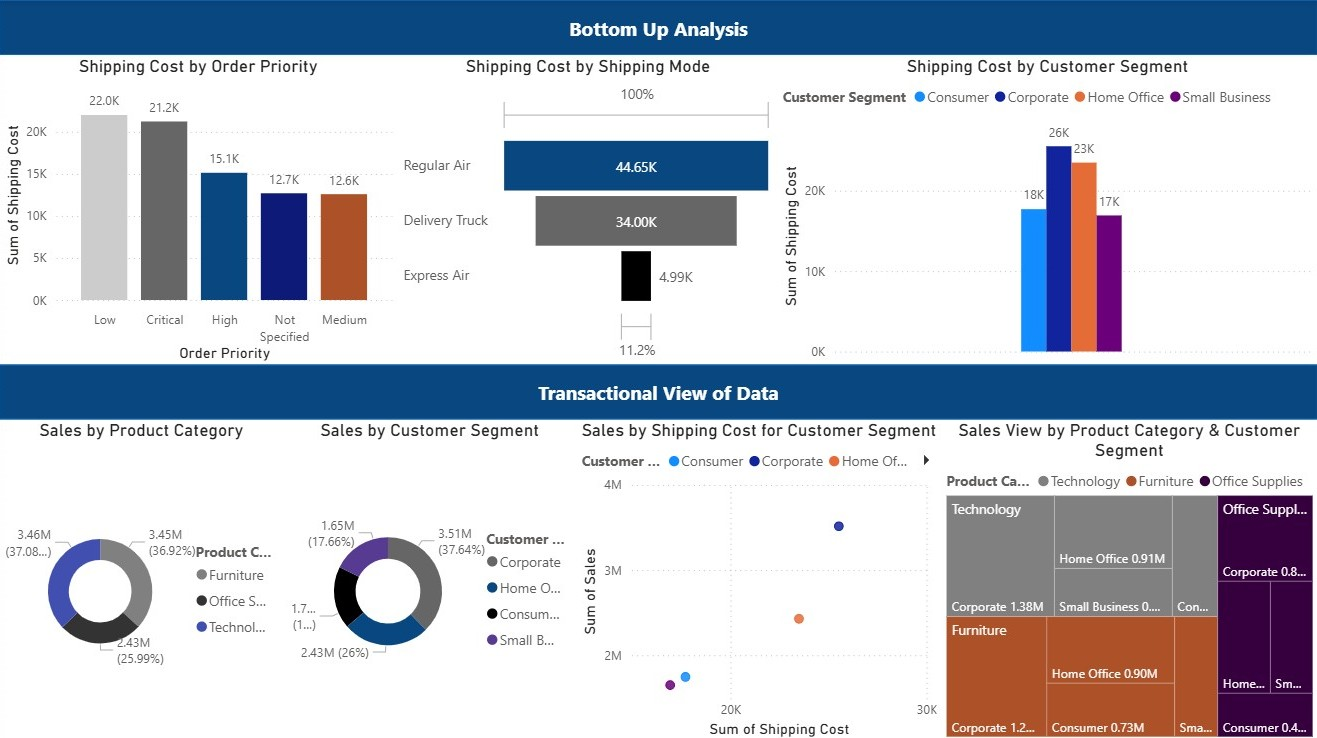

Layout of this report page (visuals, bound fields, positions):
{"tool":"powerbi","page":{"name":"Bottom Up Analysis","canvas":[1280,720],"ordinal":1},"visuals":[{"type":"shape","box":[0,0,1279.8,53.4],"z":0},{"type":"clusteredColumnChart","title":"Shipping Cost by Order Priority","fields":{"Category":["Orders.Order Priority"],"Y":["Sum(Orders.Shipping Cost)"]},"box":[0,53.4,386.7,300.9],"z":1},{"type":"funnel","title":"Shipping Cost by Shipping Mode","fields":{"Y":["Sum(Orders.Shipping Cost)"],"Category":["Orders.Ship Mode"]},"box":[386.7,53.4,368.9,300.9],"z":2},{"type":"clusteredColumnChart","title":"Shipping Cost by Customer Segment","fields":{"Y":["Sum(Orders.Shipping Cost)"],"Series":["Orders.Customer Segment"]},"box":[755.6,53.4,524.2,300.9],"z":3},{"type":"donutChart","title":"Sales by Product Category","fields":{"Y":["Sum(Orders.Sales)"],"Series":["Orders.Product Category"]},"box":[0,407.7,276.7,312.3],"z":4},{"type":"scatterChart","title":"Sales by Shipping Cost for Customer Segment","fields":{"X":["Sum(Orders.Shipping Cost)"],"Series":["Orders.Customer Segment"],"Y":["Sum(Orders.Sales)"]},"box":[559.8,407.7,354.3,312.3],"z":7},{"type":"treemap","title":"Sales View by Product Category & Customer Segment","fields":{"Group":["Orders.Product Category"],"Values":["Sum(Orders.Sales)"],"Details":["Orders.Customer Segment"]},"box":[914.2,407.7,365.7,312.3],"z":8},{"type":"donutChart","title":"Sales by Customer Segment","fields":{"Y":["Sum(Orders.Sales)"],"Category":["Orders.Customer Segment"]},"box":[276.7,407.7,283.1,312.3],"z":9},{"type":"shape","box":[0,354.3,1279.8,53.4],"z":10}]}

Visuals, with their boxes in screenshot pixels (x1, y1, x2, y2), scaled from the page's 1280x720 canvas onto the 1317x738 screenshot:
shape: [left=0, top=0, right=1316, bottom=55]
"Shipping Cost by Order Priority" clusteredColumnChart: [left=0, top=55, right=398, bottom=363]
"Shipping Cost by Shipping Mode" funnel: [left=398, top=55, right=777, bottom=363]
"Shipping Cost by Customer Segment" clusteredColumnChart: [left=777, top=55, right=1316, bottom=363]
"Sales by Product Category" donutChart: [left=0, top=418, right=285, bottom=737]
"Sales by Shipping Cost for Customer Segment" scatterChart: [left=576, top=418, right=941, bottom=737]
"Sales View by Product Category & Customer Segment" treemap: [left=941, top=418, right=1316, bottom=737]
"Sales by Customer Segment" donutChart: [left=285, top=418, right=576, bottom=737]
shape: [left=0, top=363, right=1316, bottom=418]
